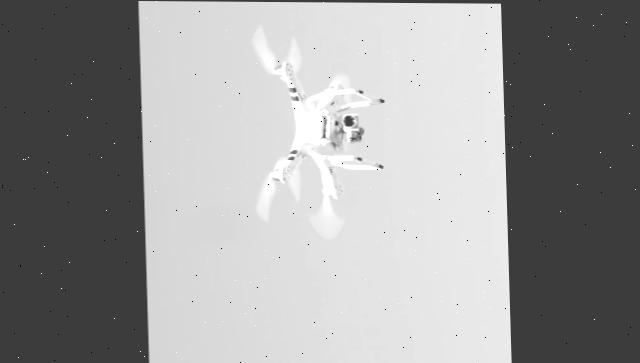drone: (253, 47, 388, 218)
